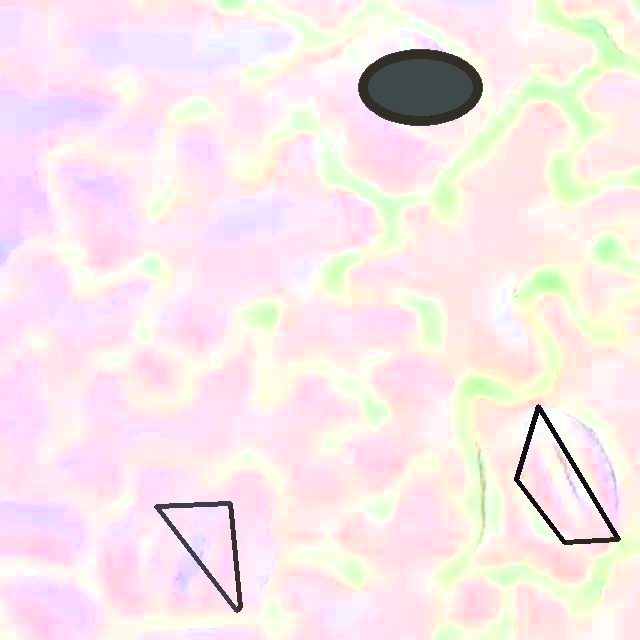open: (514, 405, 620, 544), (154, 501, 242, 612), (358, 48, 482, 125)
